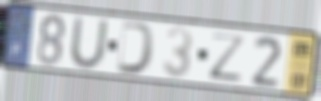2: (251, 34, 284, 88)
3: (160, 24, 195, 82)
8: (36, 12, 69, 67)
D: (114, 19, 157, 77)
U: (68, 16, 110, 71)
Z: (209, 31, 249, 84)
